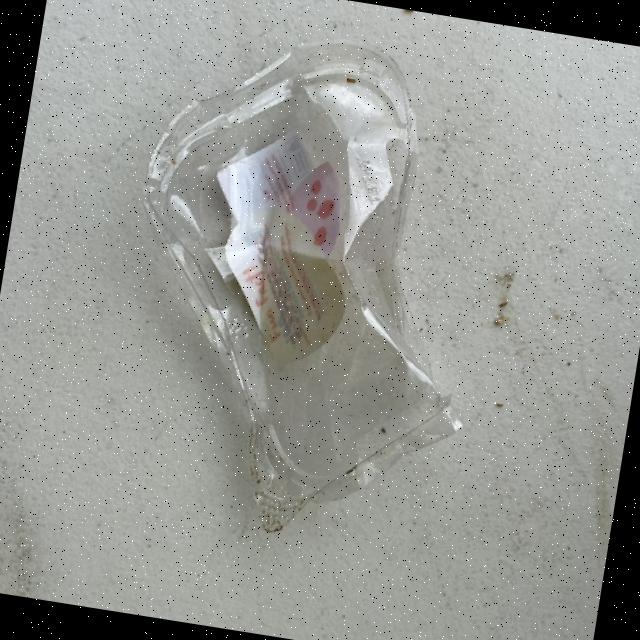plastic: (92, 11, 520, 560)
